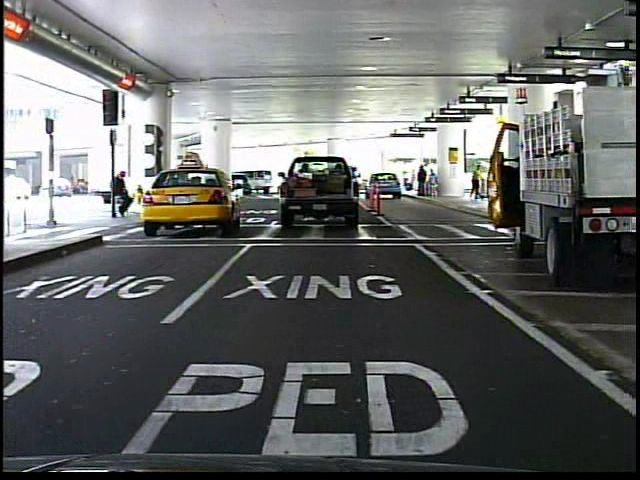person: (115, 164, 136, 221), (467, 160, 486, 205)
